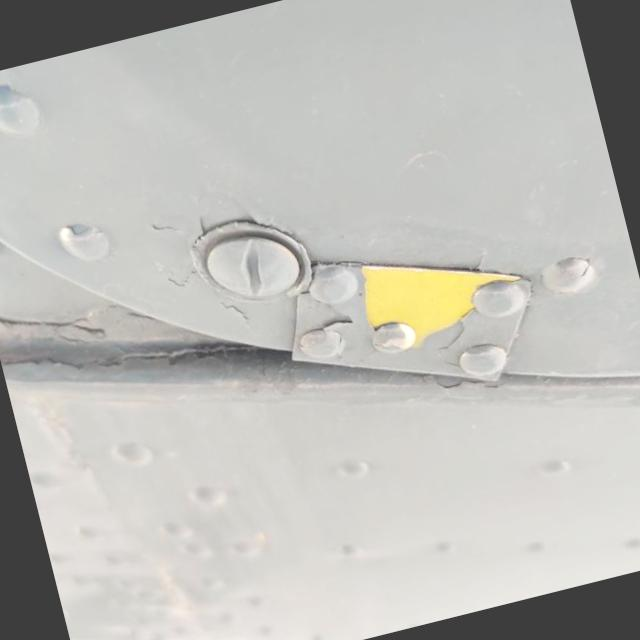paint-off: (338, 212, 550, 380)
